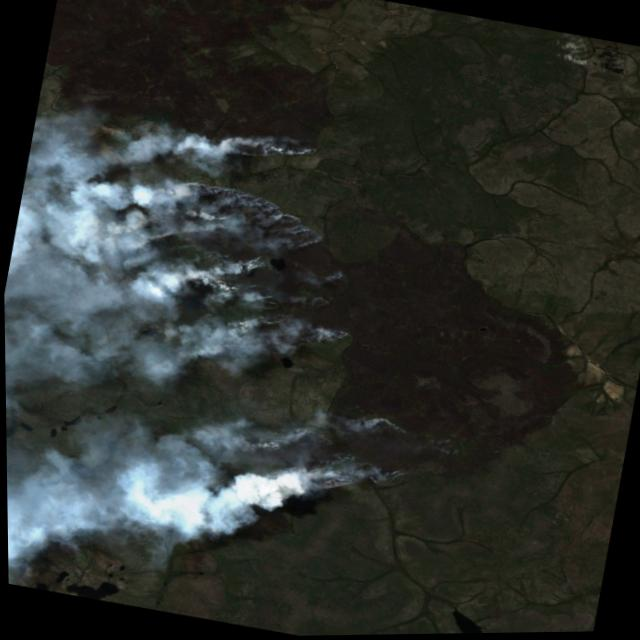fire: (60, 155, 485, 533), (176, 108, 327, 180)
